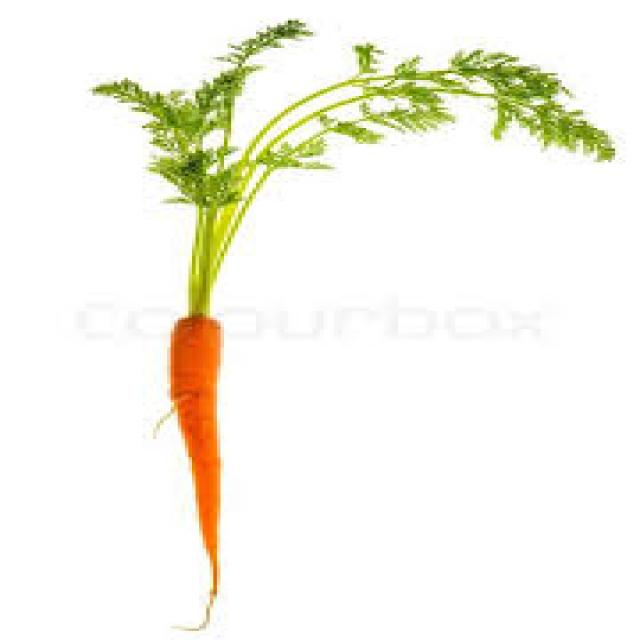organic waste: (86, 20, 604, 318), (163, 313, 217, 629)
